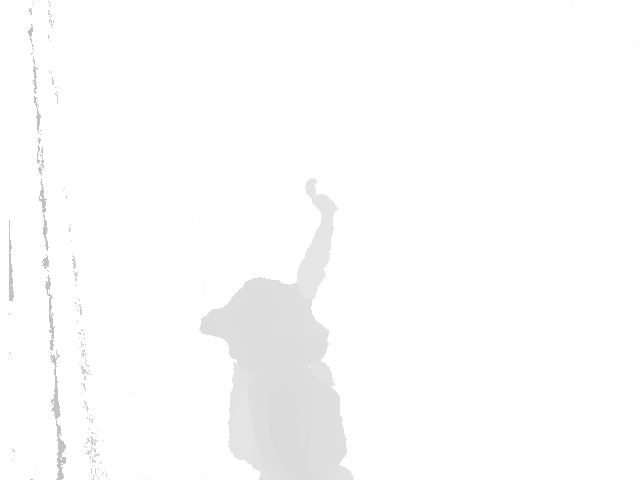hand: (305, 176, 335, 216)
head: (202, 276, 321, 347)
person: (198, 178, 346, 480)
